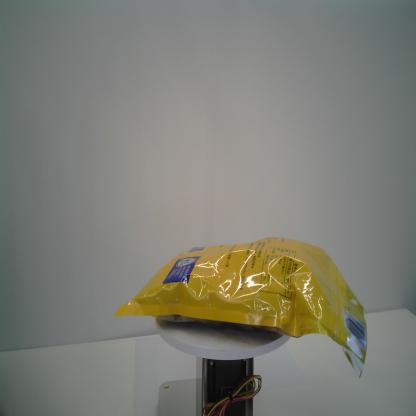Dried Food: (114, 236, 368, 380)
